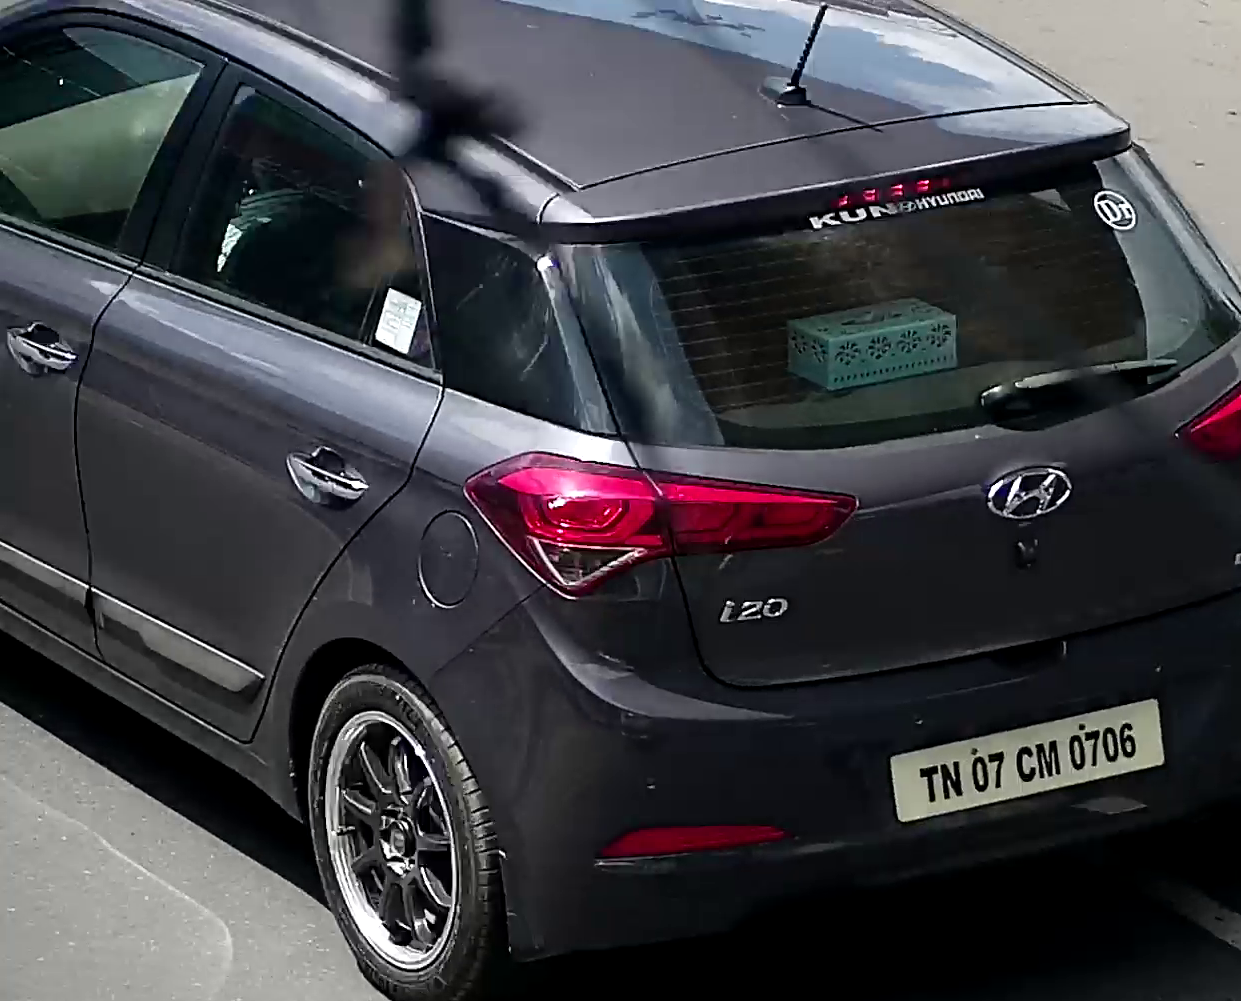0: (969, 756, 988, 794), (1068, 732, 1084, 771), (1103, 727, 1119, 762)
6: (1120, 722, 1136, 759)
7: (988, 750, 1005, 788), (1086, 729, 1102, 769)
C: (1015, 745, 1036, 782)
M: (1037, 739, 1061, 779)
N: (941, 761, 963, 801)
P7: (889, 696, 1167, 831)
T: (919, 764, 939, 804)
